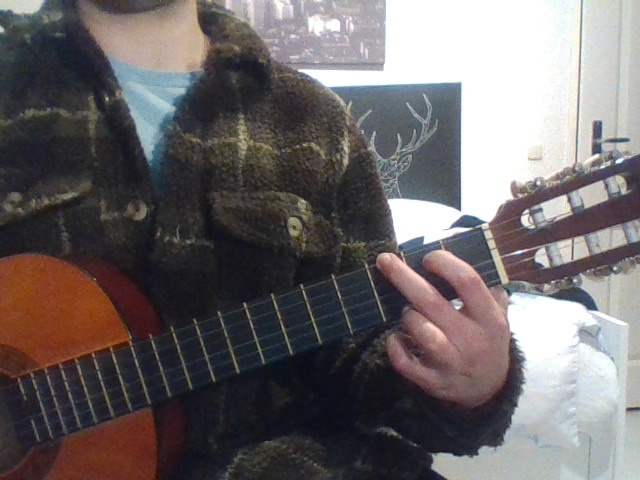G: (356, 233, 552, 420)
